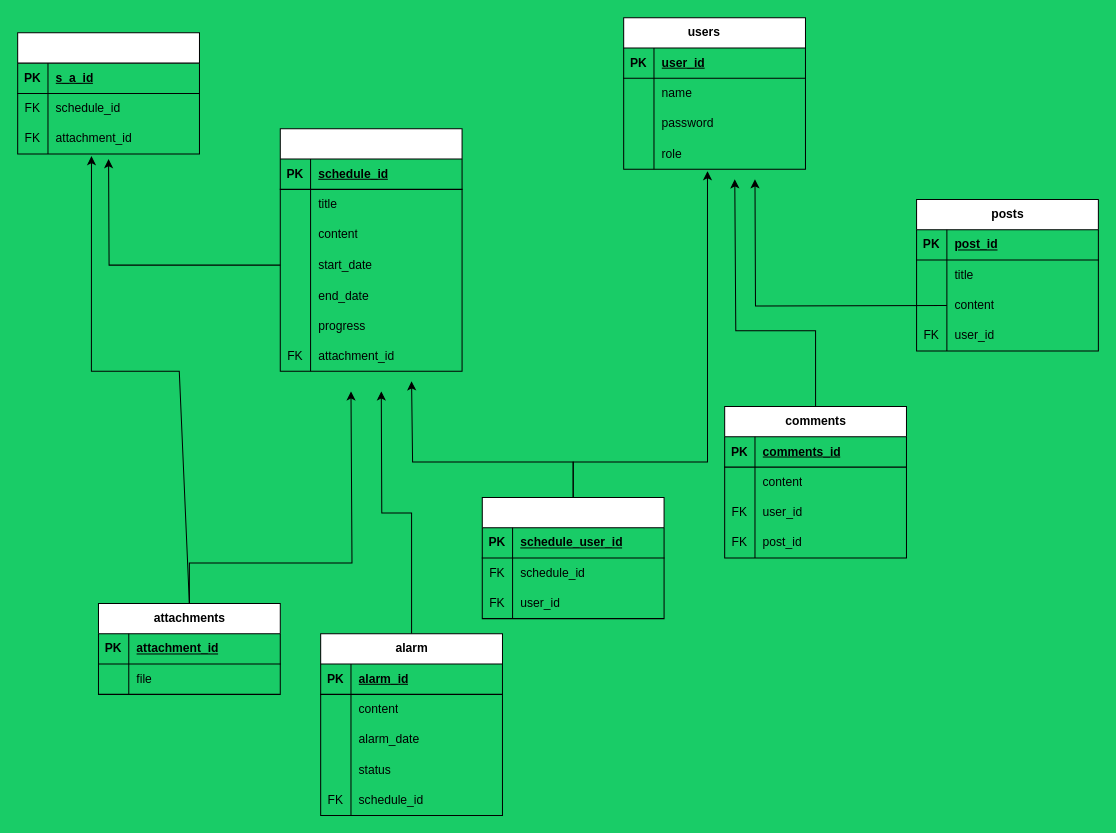
This 1116x833 diagram has some shape labels left out. Each missing label, with the box of its shape:
schedule_attachments: (17, 32, 199, 154)
schedule_users: (481, 496, 664, 619)
schedules: (279, 128, 462, 371)
